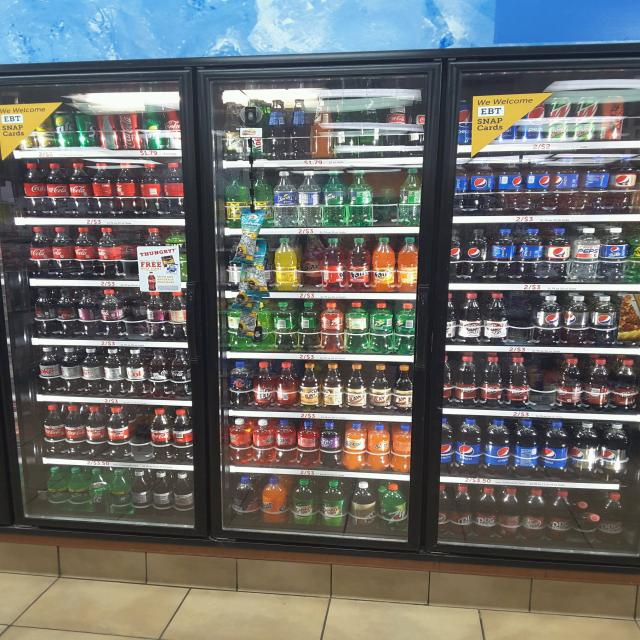empty: (505, 293, 536, 340)
